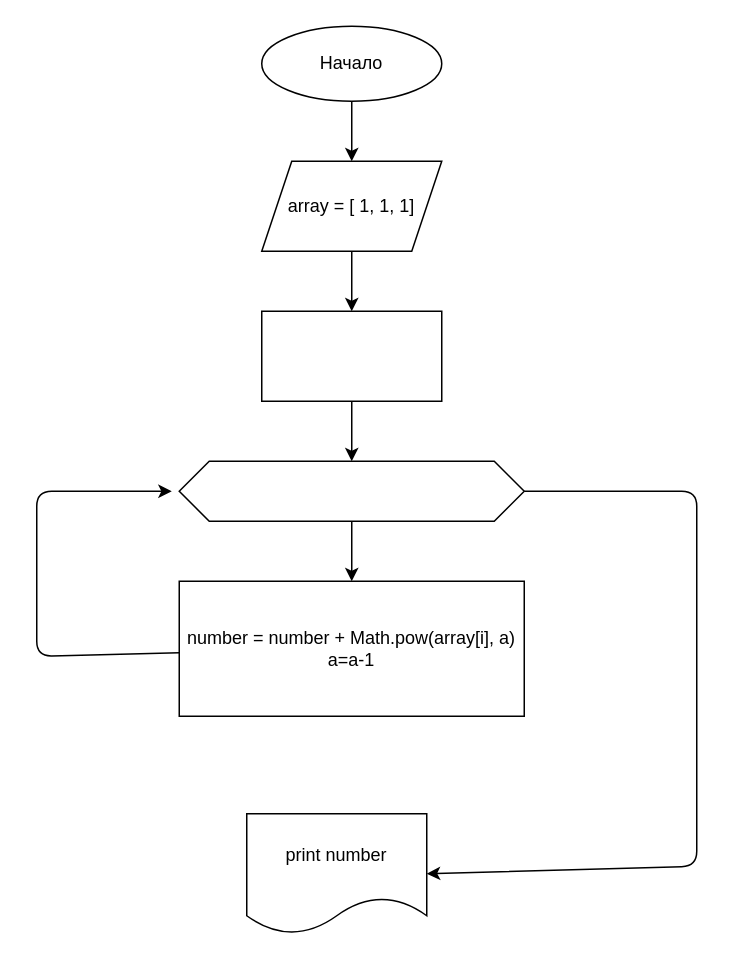
Some shapes in this 735 by 960 pixel diagram are drawn without their labels. The shapes that lost their labels are listed below. From the top down, each one's centre as x and y in pixels, then its label:
the point at 351,355: number=0; a=length.array-1
the point at 351,490: for i = 0 i <length.array-1 i++
